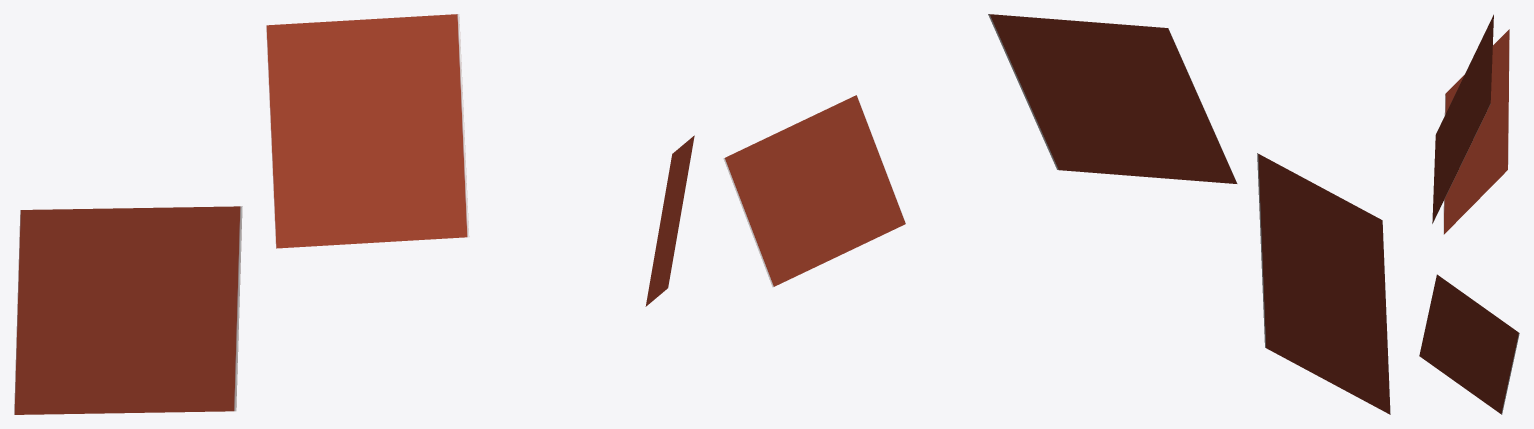
File: MainCharacter_Swelling.fbx
3 views of the same model, side by side, from view 1: azimuth 30°, elevation 25°; view 2: azimuth 150°, elevation 25°; view 3: azimuth 270°, elevation 25° (orthographic). The views are drawn at different scales.
Visible parts, largest first — view 1: Swelling02, Swelling03, Swelling01; view 2: Swelling03, Swelling02, Swelling01; view 3: Swelling01, Swelling02, Swelling03.
Part boxes in pixels (left/top/right/bottom): Swelling02: left=14, top=206, right=242, bottom=414; Swelling03: left=266, top=14, right=469, bottom=248; Swelling01: left=645, top=135, right=694, bottom=306; Swelling03: left=988, top=14, right=1237, bottom=183; Swelling02: left=1257, top=153, right=1390, bottom=414; Swelling01: left=723, top=95, right=905, bottom=287; Swelling01: left=1419, top=274, right=1519, bottom=414; Swelling02: left=1443, top=29, right=1509, bottom=234; Swelling03: left=1432, top=14, right=1493, bottom=223.
Bounding box in the file's own units: 36.32 × 18.46 × 6.47.
Materials: 1 (1 with a texture image).
